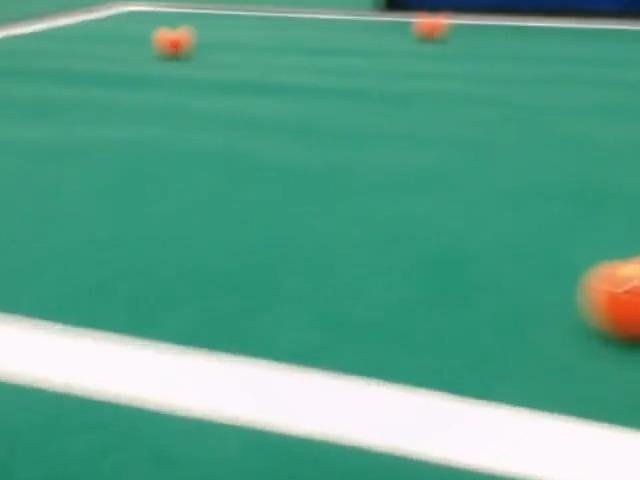Ball: (578, 256, 639, 341)
